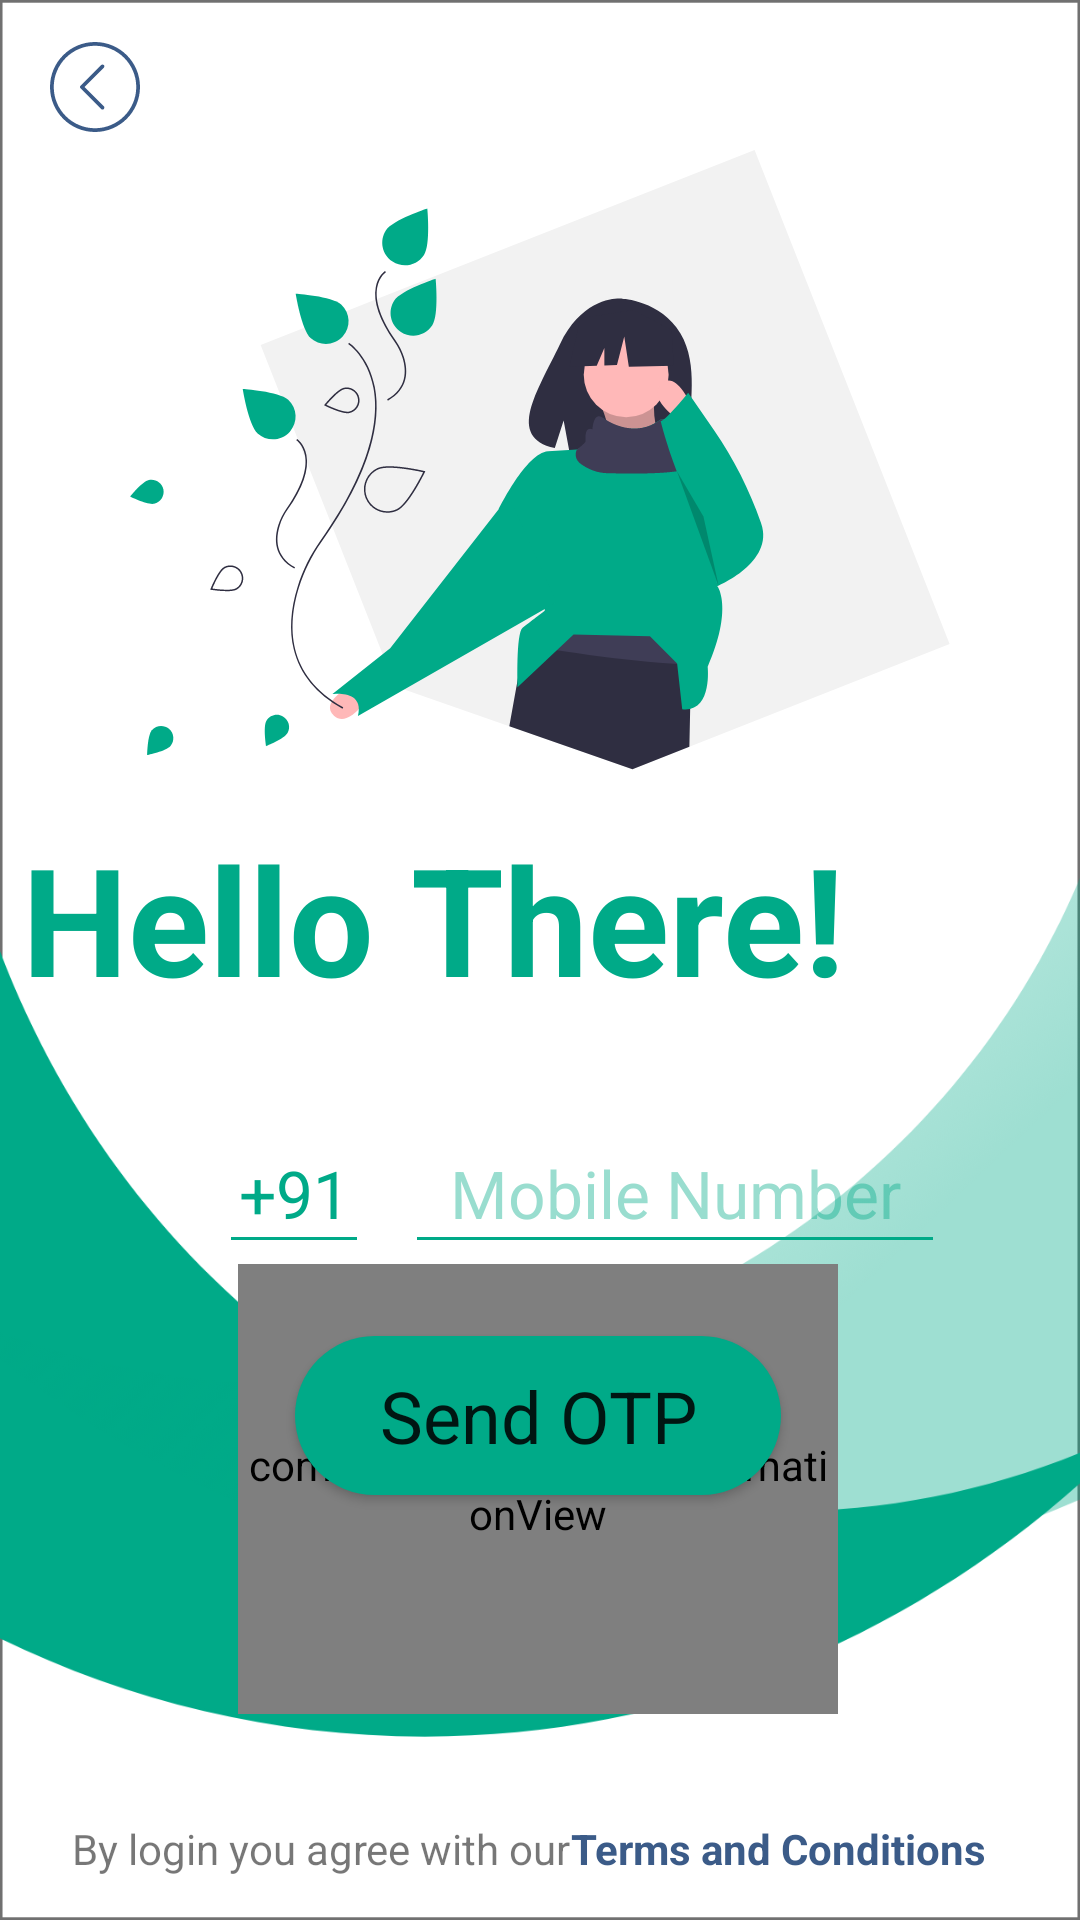

Where icons sit on this 1080×1920 app screen, as detection(x1, y1, x2, y2):
backarrow: detection(50, 42, 140, 132)
